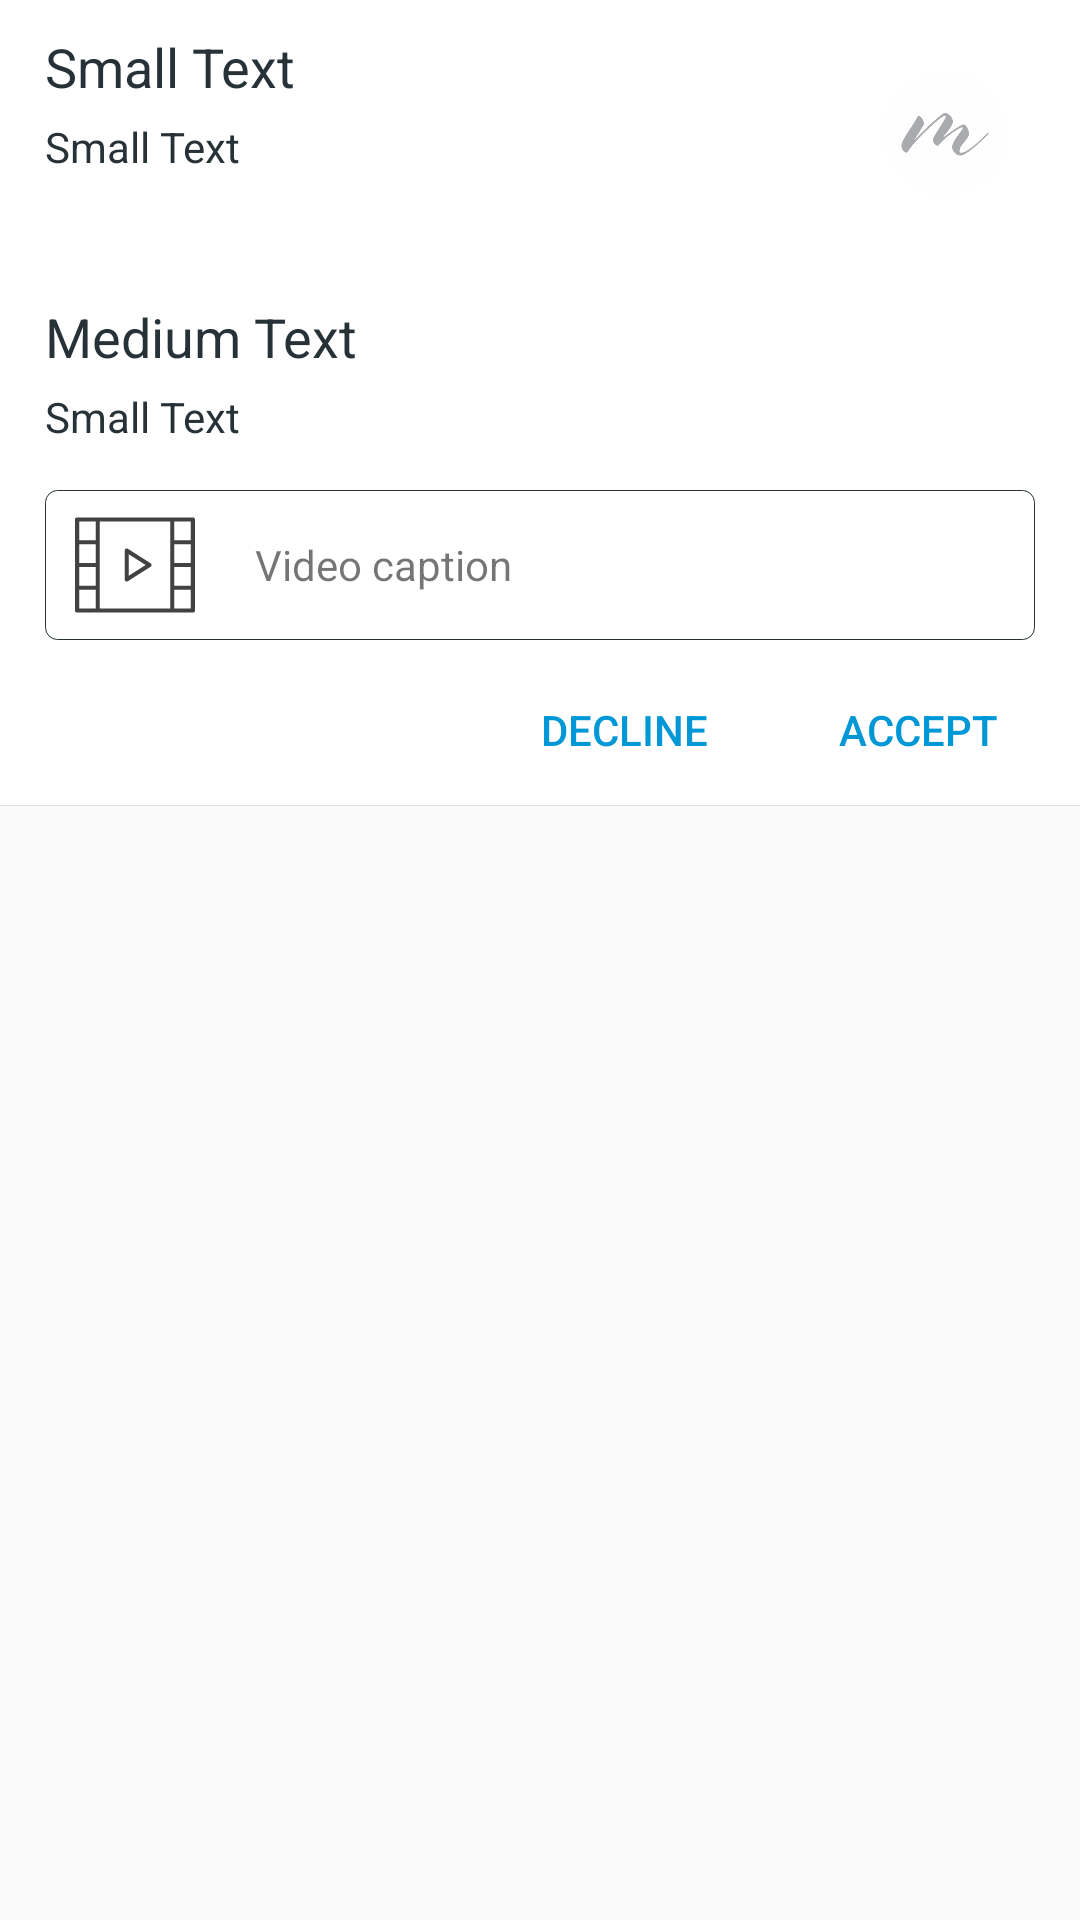

Icons on this 1080px x 1920px Android screen, each with the point to tap as [x,y]:
video item: [135,565]
